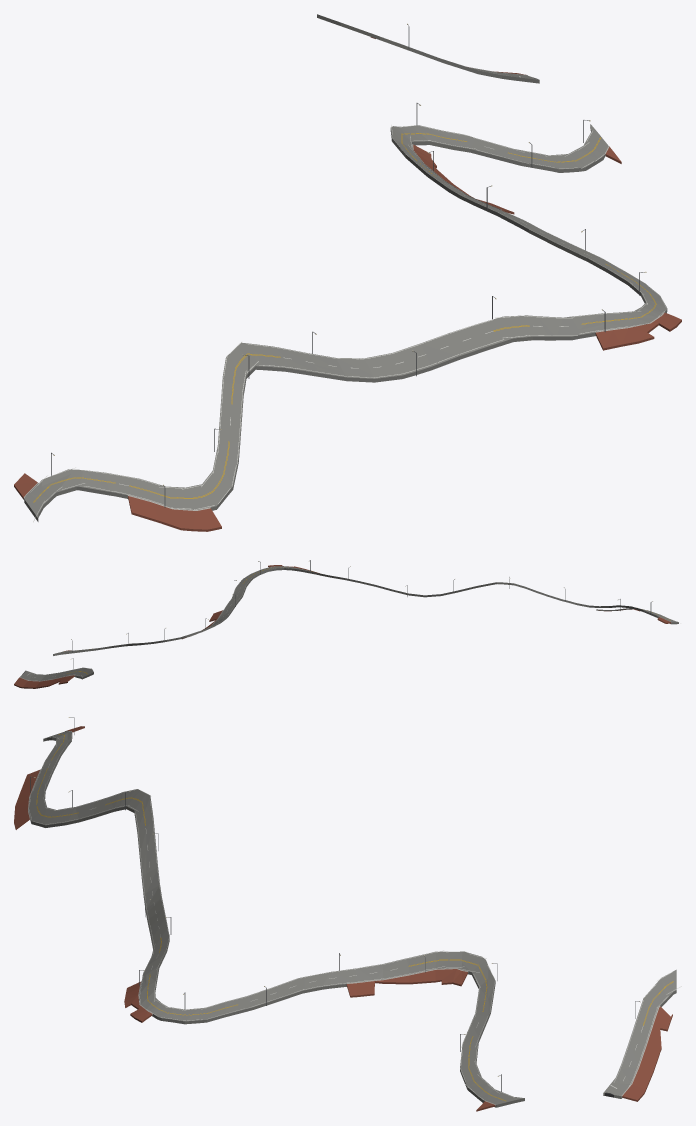
3 views of the same model, one above another, from view 1: azimuth 30°, elevation 25°; view 2: azimuth 150°, elevation 25°; view 3: azimuth 270°, elevation 25° (orthographic). The views are drawn at different scales.
Bounding box in the file's own units: 295 × 39.09 × 254.
